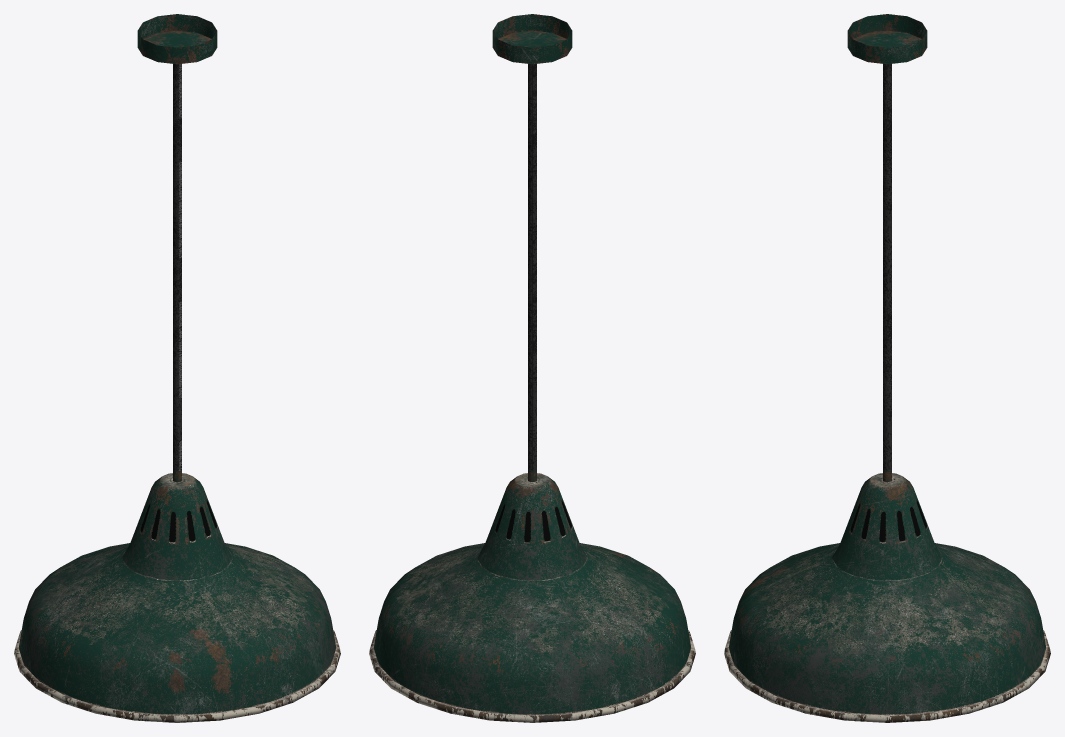
Rendered from LampGym.FBX.
3 views of the same model, side by side, from view 1: azimuth 30°, elevation 25°; view 2: azimuth 150°, elevation 25°; view 3: azimuth 270°, elevation 25° (orthographic).
Parts seen in each view (by area): view 1: LampGym_LOD0; view 2: LampGym_LOD0; view 3: LampGym_LOD0.
Part boxes in pixels (bbox=[...]): LampGym_LOD0: bbox=[14, 14, 340, 722]; LampGym_LOD0: bbox=[369, 14, 695, 722]; LampGym_LOD0: bbox=[724, 14, 1050, 722].
Size of what is drawn, in the model's own units: 49.12 by 105 by 49.12.
